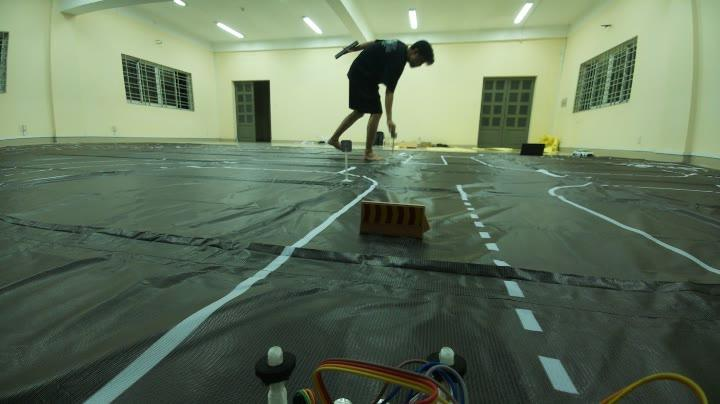roadblock: (356, 195, 439, 254)
